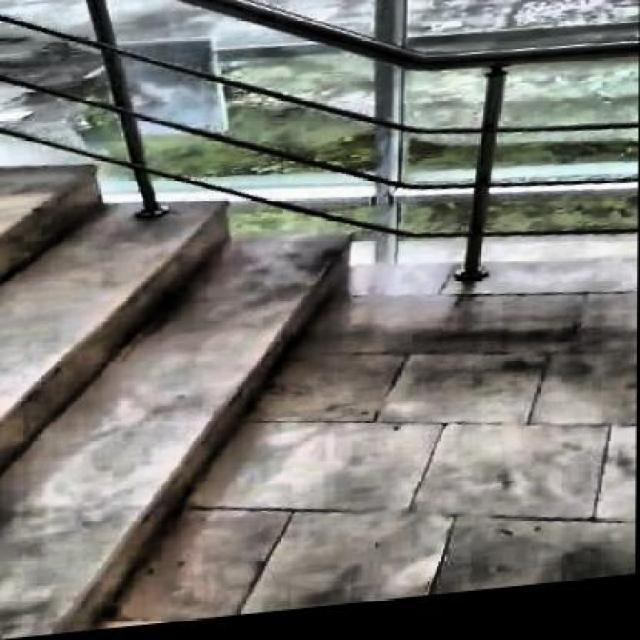stair: (0, 136, 343, 638)
